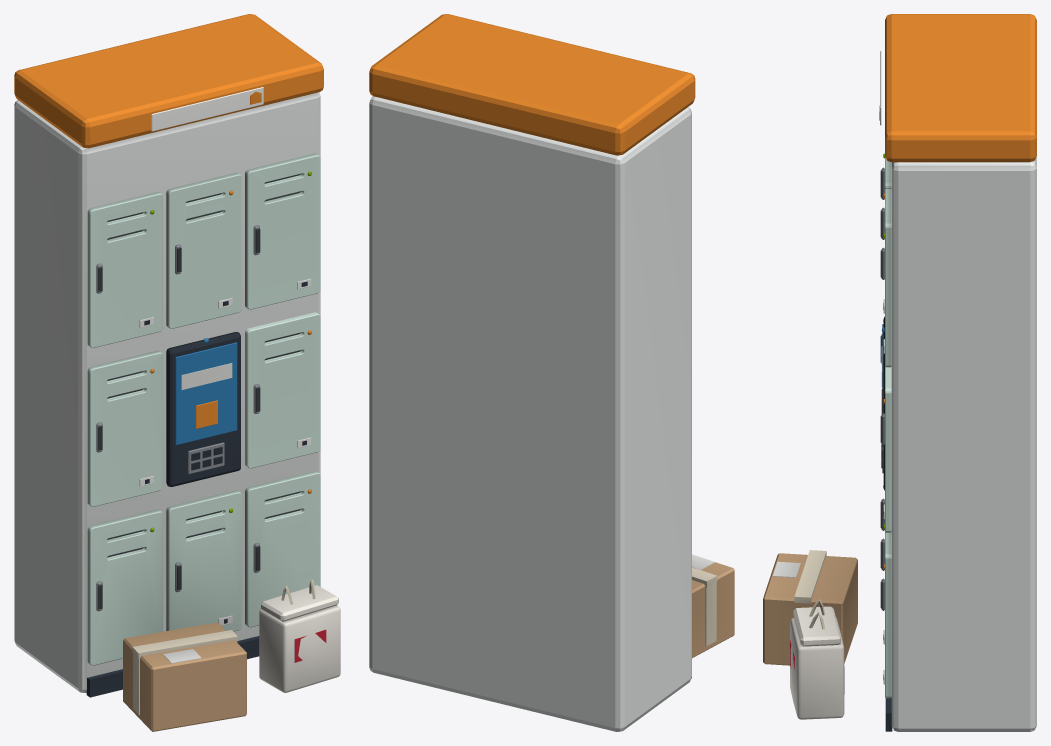
The model's file is deliveryLocker.glb.
3 renders of one model, left to right at view 1: azimuth 30°, elevation 25°; view 2: azimuth 150°, elevation 25°; view 3: azimuth 270°, elevation 25°, orthographic. The views are drawn at different scales.
Visible parts, largest first — view 1: body, locker_door; view 2: body; view 3: body, locker_door.
Part boxes in pixels (left/top/right/bottom): body: left=14, top=14, right=340, bottom=731; locker_door: left=245, top=312, right=320, bottom=468; body: left=369, top=14, right=734, bottom=731; body: left=763, top=14, right=1036, bottom=731; locker_door: left=880, top=367, right=891, bottom=532.
Size of the model in its own units: 0.86 by 1.96 by 0.8103.
